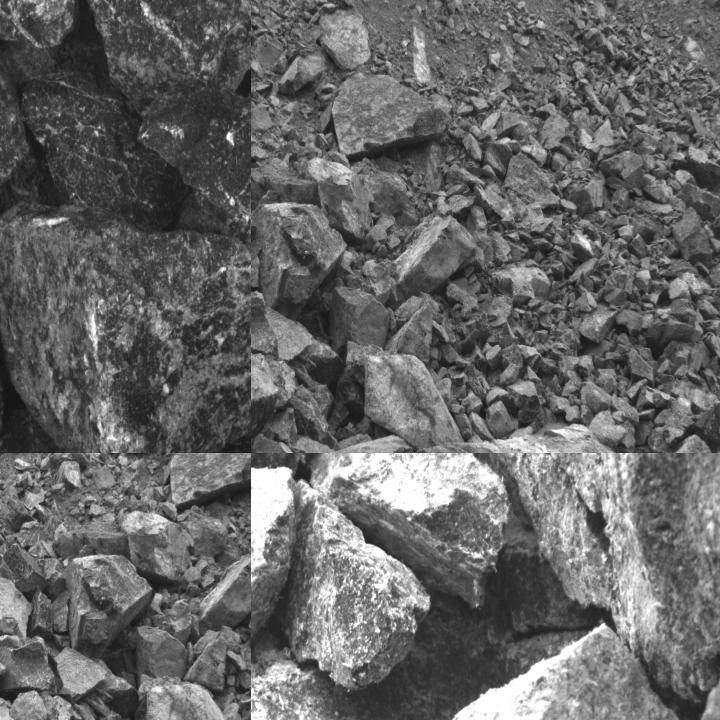stone: (403, 453, 719, 710), (0, 204, 250, 452), (306, 453, 517, 609), (282, 478, 430, 690), (399, 621, 694, 719), (21, 66, 184, 226), (85, 0, 250, 110), (136, 84, 250, 238), (251, 467, 300, 719), (251, 202, 349, 322), (332, 73, 456, 156), (362, 356, 462, 452), (386, 216, 476, 310), (121, 509, 193, 584), (274, 312, 348, 382), (328, 288, 390, 351), (288, 388, 344, 450), (318, 8, 370, 69), (505, 154, 563, 206), (390, 306, 433, 368), (168, 421, 250, 452), (341, 169, 376, 240), (492, 260, 550, 300), (0, 569, 33, 638), (0, 544, 46, 591), (587, 409, 636, 452), (676, 207, 712, 264), (150, 598, 192, 646), (599, 152, 645, 189), (679, 181, 719, 221), (540, 115, 578, 157), (580, 302, 617, 344), (565, 179, 607, 216), (251, 296, 277, 353), (183, 519, 225, 554), (661, 409, 696, 446), (586, 117, 617, 156), (507, 381, 542, 411), (628, 348, 657, 382), (363, 216, 391, 248), (699, 400, 719, 442), (17, 522, 49, 546), (617, 307, 641, 335), (448, 194, 475, 218), (499, 344, 524, 369), (485, 148, 504, 176), (570, 236, 593, 259), (497, 363, 520, 386), (462, 134, 482, 160), (532, 218, 554, 240), (670, 278, 690, 302), (713, 163, 719, 242), (486, 344, 502, 370), (436, 198, 454, 219)
